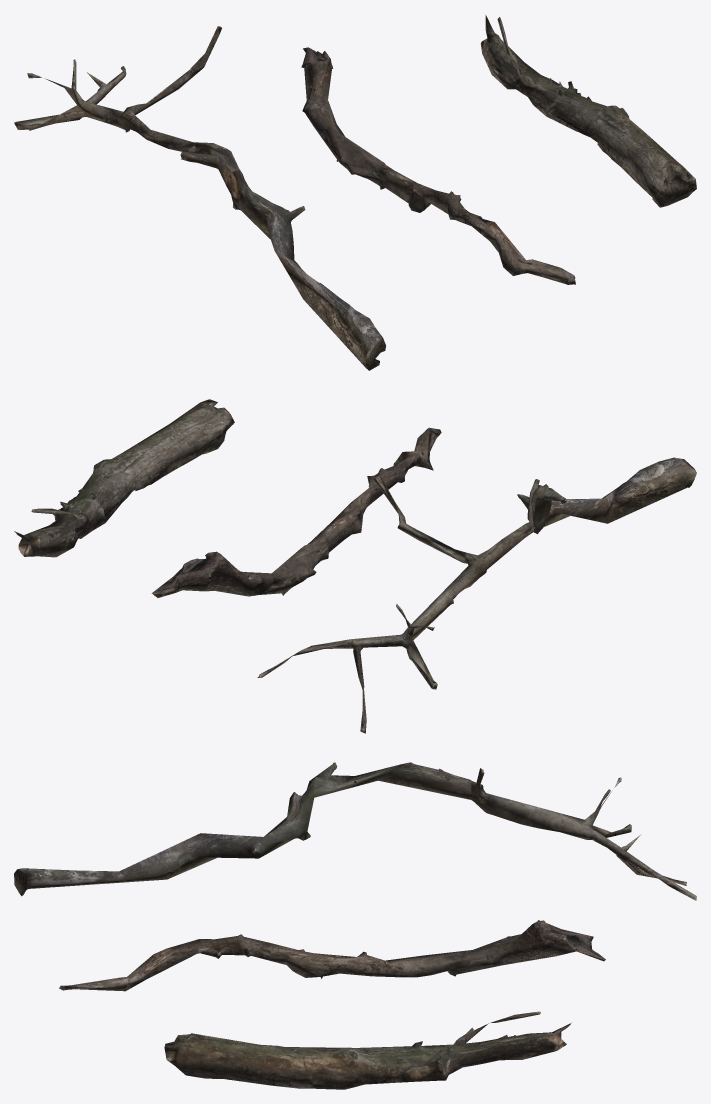
File: dry_branches_medium_01.glb
3 renders of one model, top to bottom at view 1: azimuth 30°, elevation 25°; view 2: azimuth 150°, elevation 25°; view 3: azimuth 270°, elevation 25°, orthographic. The views are drawn at different scales.
Parts seen in each view (by area): view 1: dry_branches_medium_01_a, dry_branches_medium_01_c, dry_branches_medium_01_b; view 2: dry_branches_medium_01_a, dry_branches_medium_01_c, dry_branches_medium_01_b; view 3: dry_branches_medium_01_a, dry_branches_medium_01_c, dry_branches_medium_01_b.
Boxes of the visible parts, box(x1,y1,x2,y2) form: dry_branches_medium_01_a: box(14, 26, 385, 370); dry_branches_medium_01_c: box(480, 15, 696, 207); dry_branches_medium_01_b: box(301, 47, 575, 284); dry_branches_medium_01_a: box(257, 457, 696, 733); dry_branches_medium_01_c: box(14, 399, 234, 557); dry_branches_medium_01_b: box(151, 427, 441, 597); dry_branches_medium_01_a: box(14, 762, 696, 900); dry_branches_medium_01_c: box(164, 1011, 571, 1089); dry_branches_medium_01_b: box(59, 920, 605, 991).
Size of the model in its own units: 1.06 by 0.34 by 1.3.
1 material, 1 textured.
